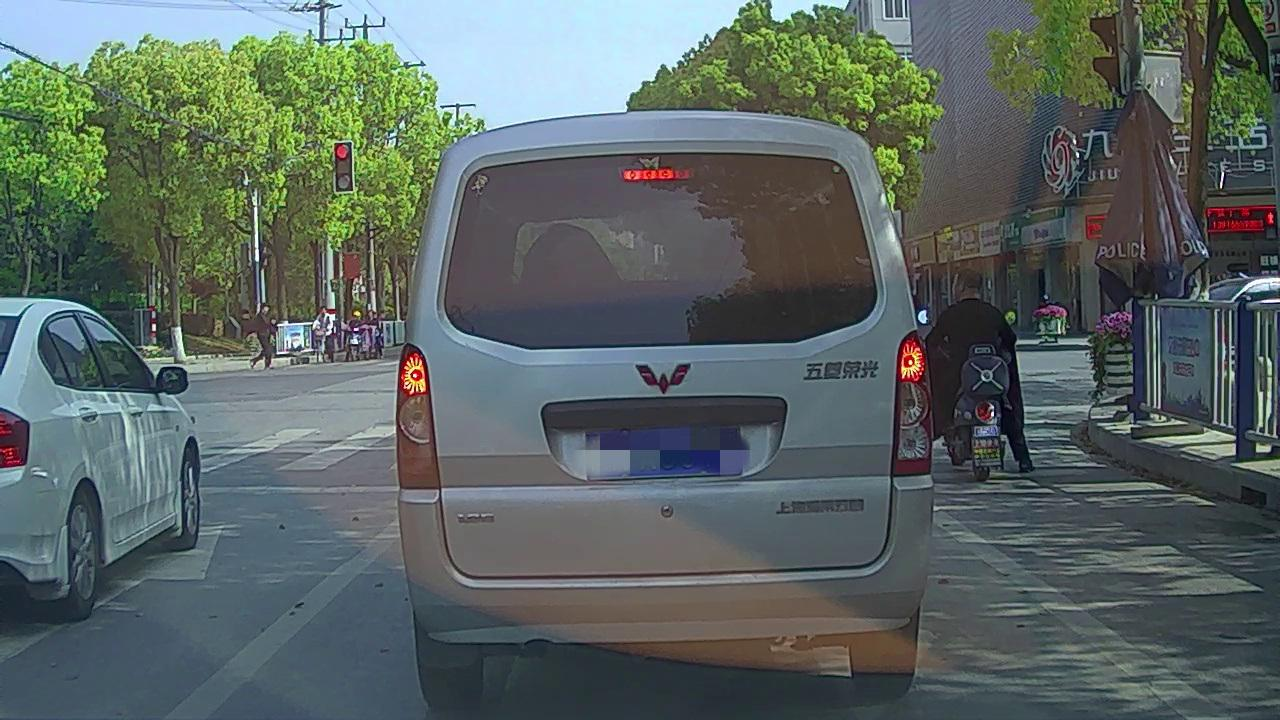traffic_light: (334, 143, 353, 192)
